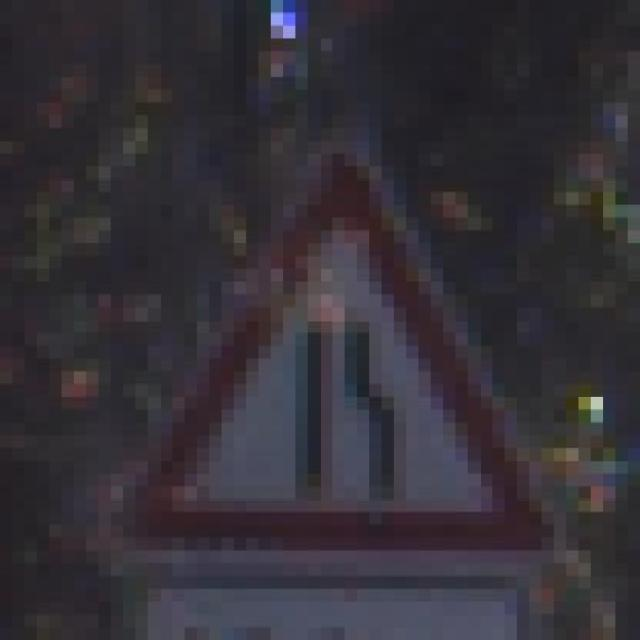-Road narrows on right: (99, 128, 566, 563)
